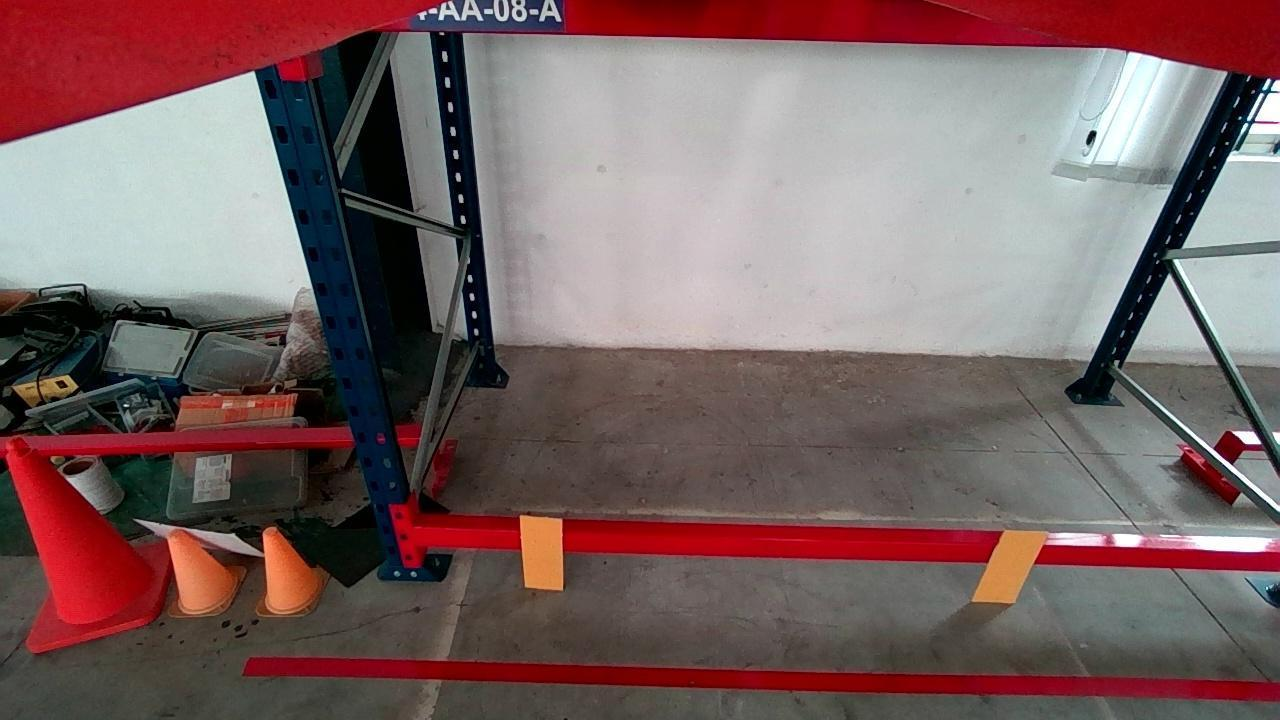h_rack: (413, 526, 1280, 574), (384, 0, 1077, 43)
orange_strip: (969, 531, 1050, 608), (522, 515, 564, 587)
red_line: (242, 655, 1280, 698)
